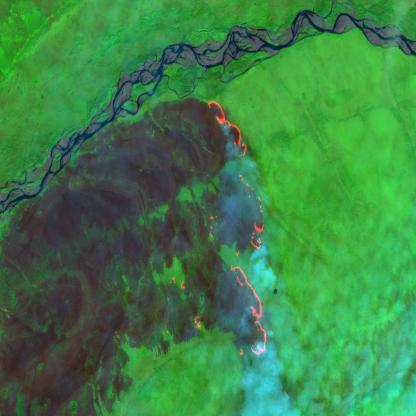fire: (207, 96, 274, 359)
